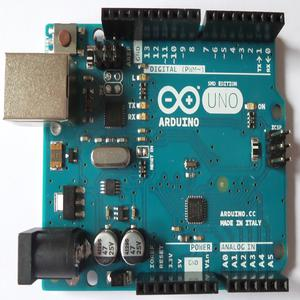duino: (18, 2, 295, 298)
